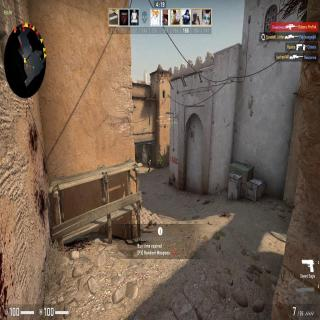CT-Body: (146, 152, 150, 162), (148, 159, 151, 172)
CT-Head: (147, 153, 149, 155), (149, 160, 151, 162)
